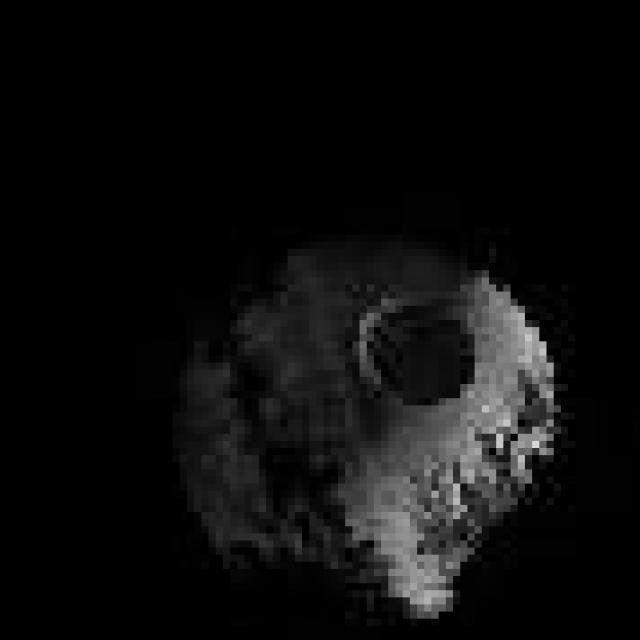Death Star: (165, 220, 568, 626)
